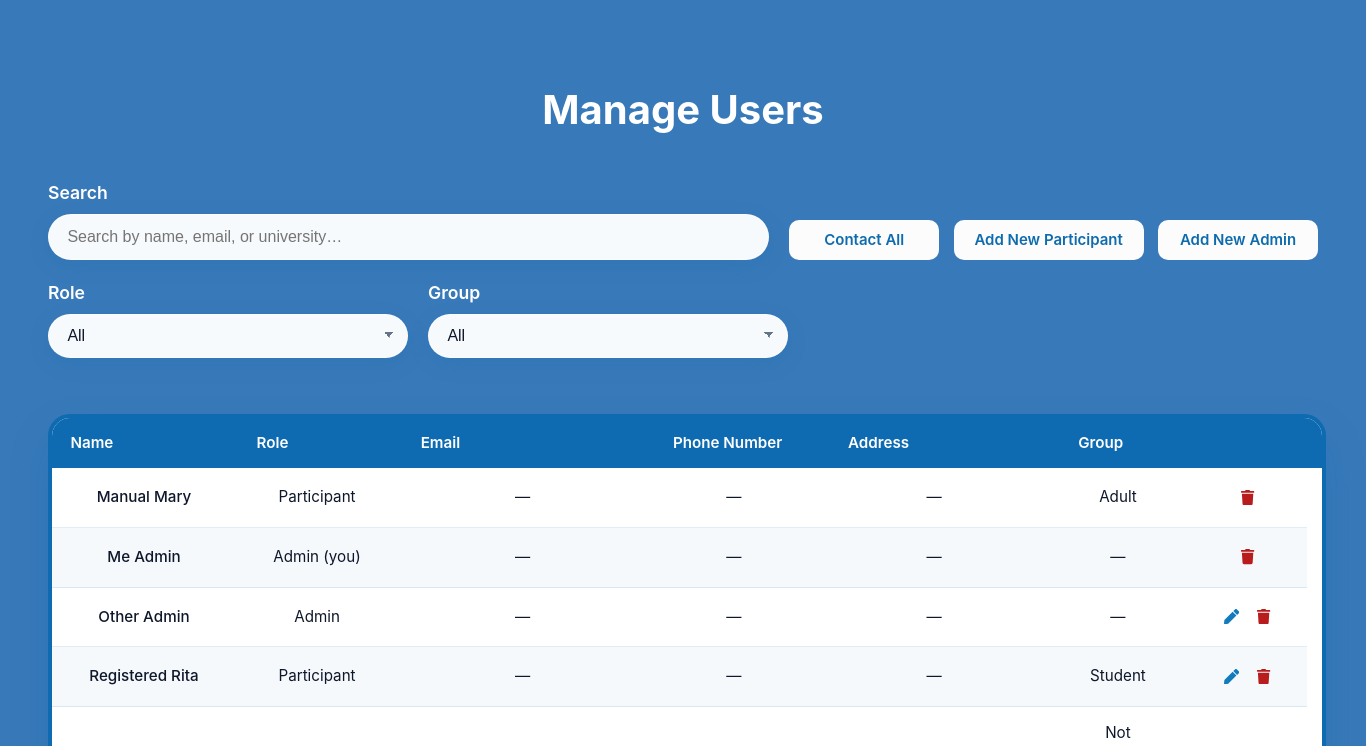
Test: Manage Users role select › registered Participant -> Admin warns about matching and the dashboard
Click the button named "Change role for Registered Rita" at (1232, 677), box [1218,663,1246,691]
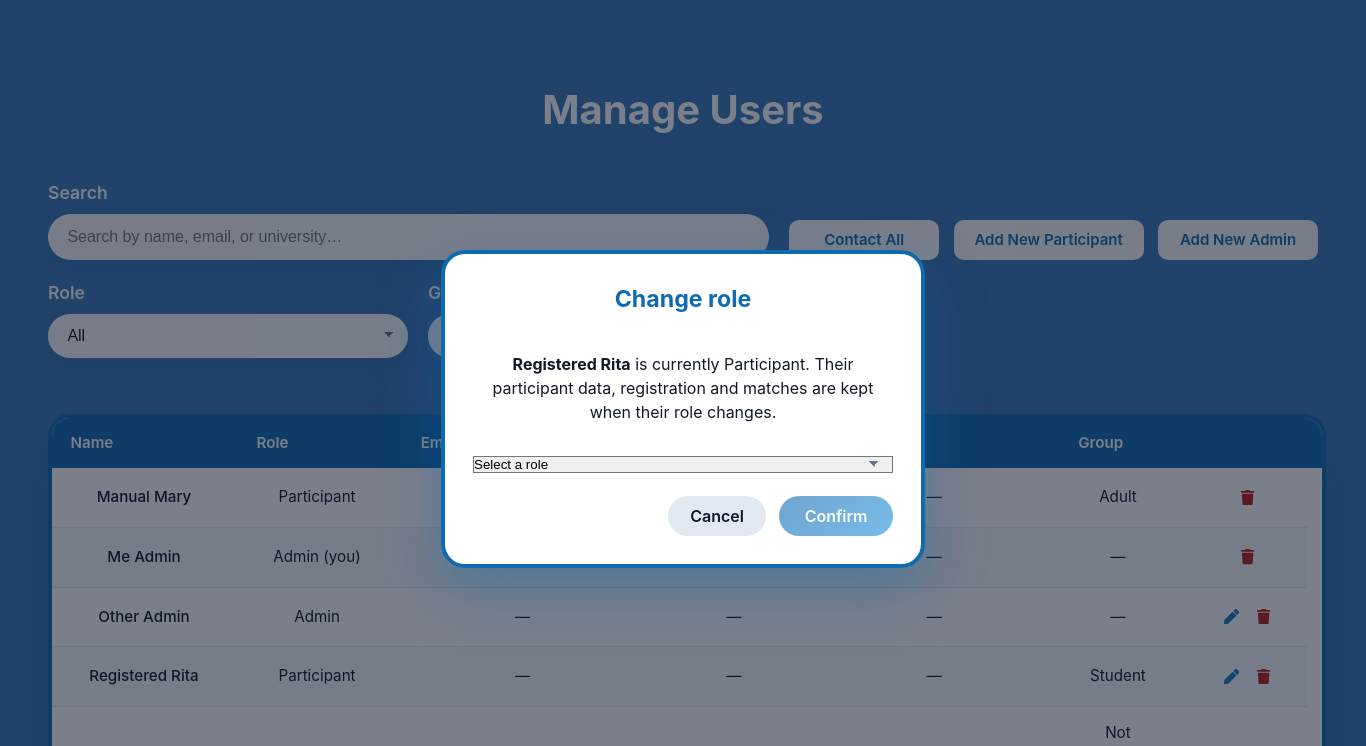
Select "Admin" in the dropdown named "New role" at (683, 465), box [473,456,893,473]
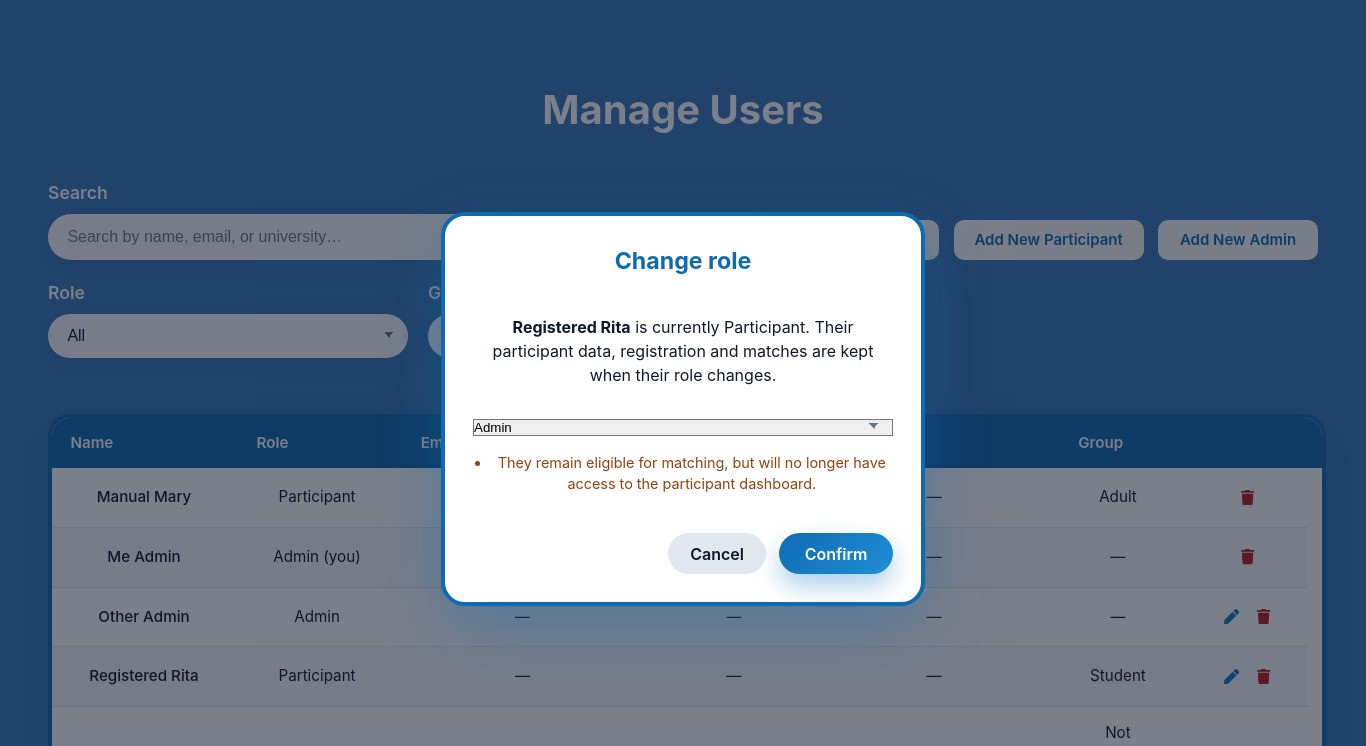
Check: the list item "remain eligible for matching, but will no longer have access to the participant dashboard" is shown, box [498,454,886,492]
